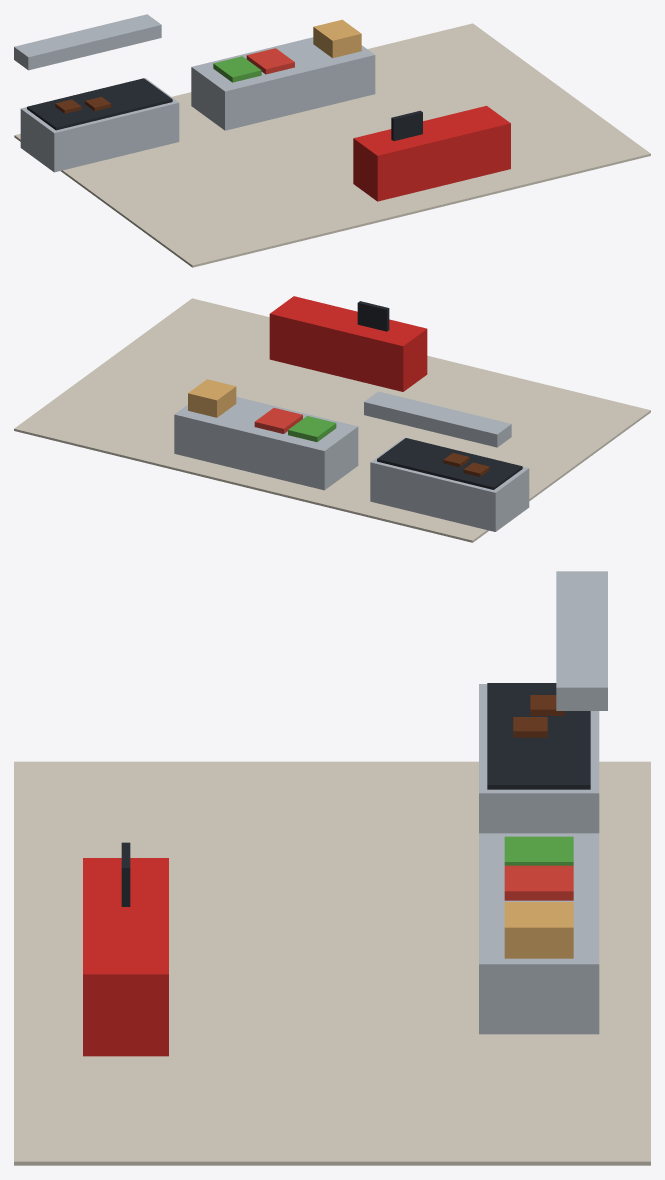
The model's file is duplicate.glb.
The picture shows the model from 3 angles, top to bottom: view 1: azimuth 30°, elevation 25°; view 2: azimuth 150°, elevation 25°; view 3: azimuth 270°, elevation 25°; orthographic projection. The views are drawn at different scales.
Visible parts, largest first — view 1: object 12, register, Grill, Cube.003, hood, griddle, bun rack, lettuce bin, tomato bin, screen; view 2: object 12, register, Grill, Cube.003, hood, griddle, bun rack, lettuce bin, tomato bin, screen; view 3: object 12, register, Grill, griddle, hood, Cube.003, bun rack, tomato bin, lettuce bin.
Boxes of the visible parts, bbox=[...] form: object 12: bbox=[14, 23, 650, 267]; register: bbox=[353, 105, 510, 201]; Grill: bbox=[191, 37, 375, 130]; Cube.003: bbox=[20, 78, 179, 172]; hood: bbox=[14, 14, 161, 70]; griddle: bbox=[27, 78, 172, 130]; bun rack: bbox=[313, 19, 361, 58]; lettuce bin: bbox=[213, 56, 261, 82]; tomato bin: bbox=[246, 48, 294, 74]; screen: bbox=[391, 110, 422, 140]; object 12: bbox=[14, 298, 650, 542]; register: bbox=[269, 296, 427, 391]; Grill: bbox=[174, 397, 358, 490]; Cube.003: bbox=[370, 437, 529, 531]; hood: bbox=[364, 391, 511, 447]; griddle: bbox=[377, 438, 522, 489]; bun rack: bbox=[188, 379, 236, 417]; lettuce bin: bbox=[288, 416, 336, 441]; tomato bin: bbox=[254, 408, 302, 433]; screen: bbox=[357, 301, 389, 331]; object 12: bbox=[14, 761, 650, 1165]; register: bbox=[83, 858, 168, 1056]; Grill: bbox=[479, 833, 599, 1034]; griddle: bbox=[487, 683, 590, 789]; hood: bbox=[556, 571, 607, 710]; Cube.003: bbox=[479, 684, 599, 833]; bun rack: bbox=[504, 902, 573, 958]; tomato bin: bbox=[504, 865, 573, 900]; lettuce bin: bbox=[504, 836, 573, 865].
Size of the model in its own units: 11.3 by 2.35 by 7.4.
